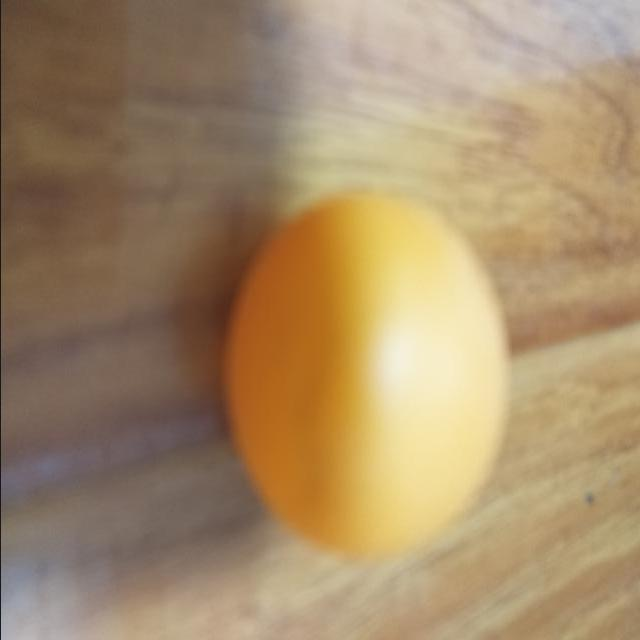ping-pong-ball: (225, 187, 510, 557)
